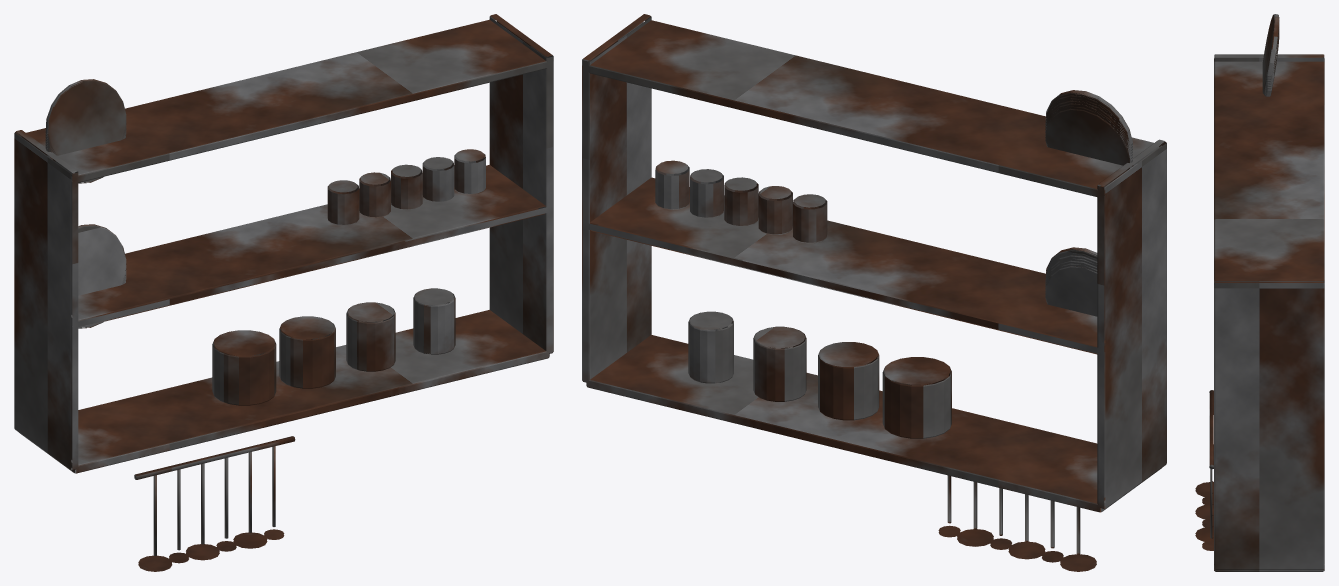
File: K04_utensil_shelf.glb
The picture shows the model from 3 angles, left to right: view 1: azimuth 30°, elevation 25°; view 2: azimuth 150°, elevation 25°; view 3: azimuth 270°, elevation 25°; orthographic projection. The views are drawn at different scales.
Visible parts, largest first — view 1: K04_utensil_shelf; view 2: K04_utensil_shelf; view 3: K04_utensil_shelf.
Part boxes in pixels (x1=…): K04_utensil_shelf: x1=14, y1=14, x2=553, y2=571; K04_utensil_shelf: x1=582, y1=14, x2=1166, y2=571; K04_utensil_shelf: x1=1195, y1=14, x2=1324, y2=571.
Bounding box in the file's own units: 1.2 × 1.11 × 0.2876.
Materials: 1 (1 with a texture image).
